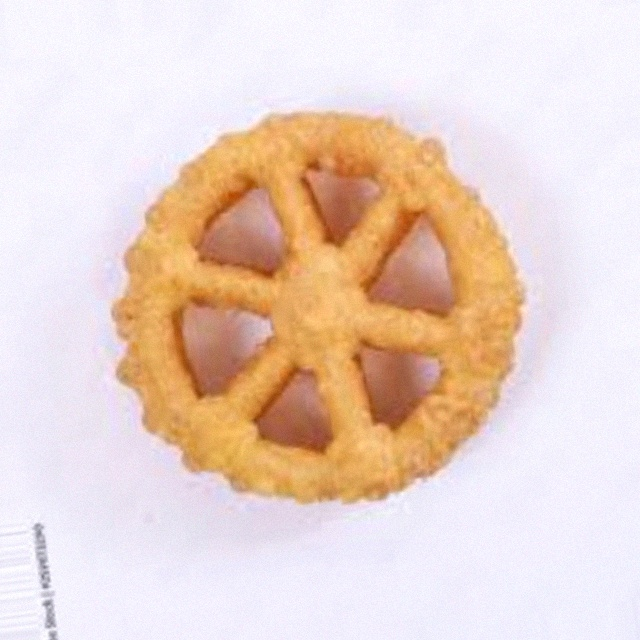Kokis: (101, 117, 539, 523)
